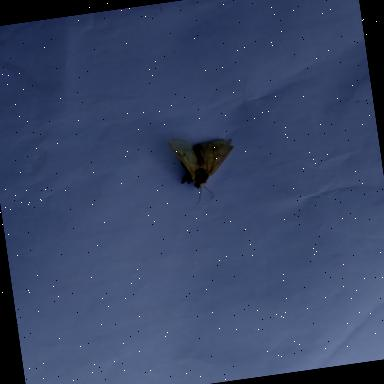abw: (161, 126, 246, 214)
